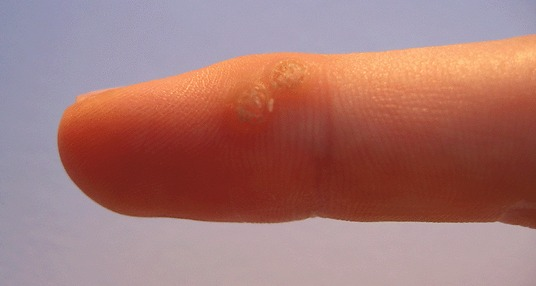Warts: (232, 50, 314, 128)
